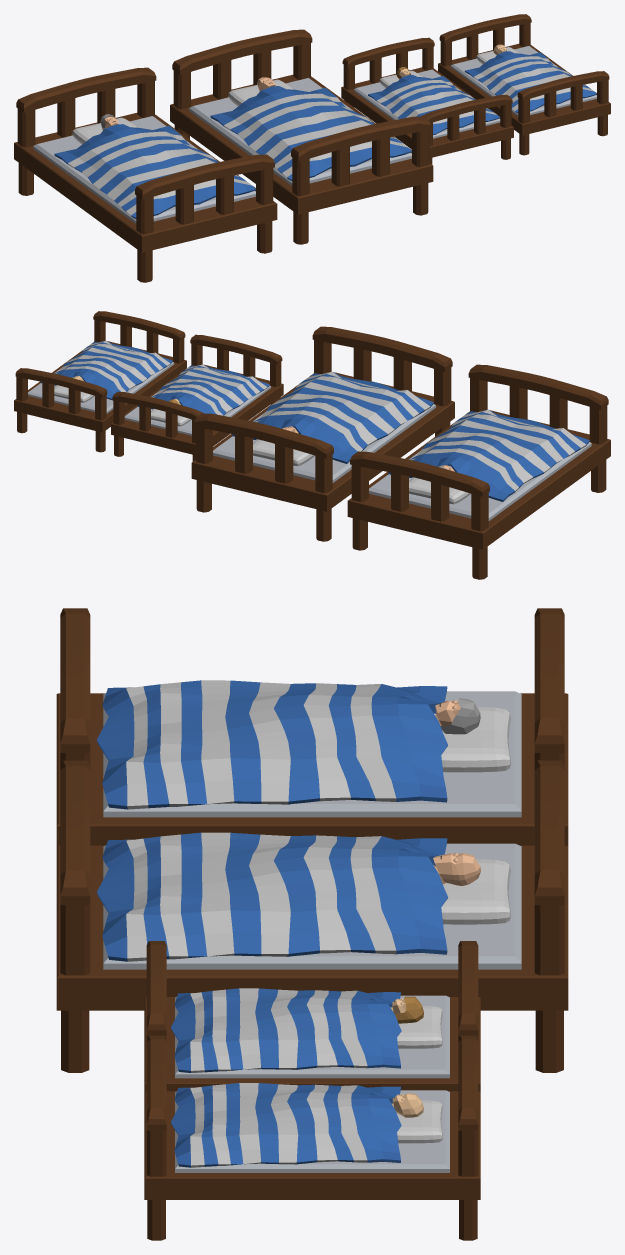
The model's file is narrative bed finished.fbx.
The picture shows the model from 3 angles, top to bottom: view 1: azimuth 30°, elevation 25°; view 2: azimuth 150°, elevation 25°; view 3: azimuth 270°, elevation 25°; orthographic projection. The views are drawn at different scales.
Visible parts, largest first — view 1: bed full elderly, bed full adult, bed full child bald, bed full child hair; view 2: bed full elderly, bed full adult, bed full child bald, bed full child hair; view 3: bed full adult, bed full elderly, bed full child bald, bed full child hair.
Part boxes in pixels (bbox=[...]): bed full elderly: bbox=[14, 67, 277, 282]; bed full adult: bbox=[170, 29, 433, 244]; bed full child bald: bbox=[438, 14, 610, 155]; bed full child hair: bbox=[341, 37, 513, 164]; bed full elderly: bbox=[347, 364, 610, 579]; bed full adult: bbox=[191, 326, 454, 541]; bed full child bald: bbox=[14, 311, 186, 452]; bed full child hair: bbox=[111, 334, 283, 461]; bed full adult: bbox=[56, 760, 568, 1072]; bed full elderly: bbox=[56, 608, 568, 845]; bed full child bald: bbox=[144, 1035, 480, 1240]; bed full child hair: bbox=[144, 941, 480, 1091].
Bounding box in the file's own units: 937 × 178 × 423.
